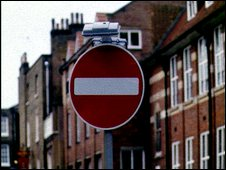No_entry: (68, 43, 145, 131)
